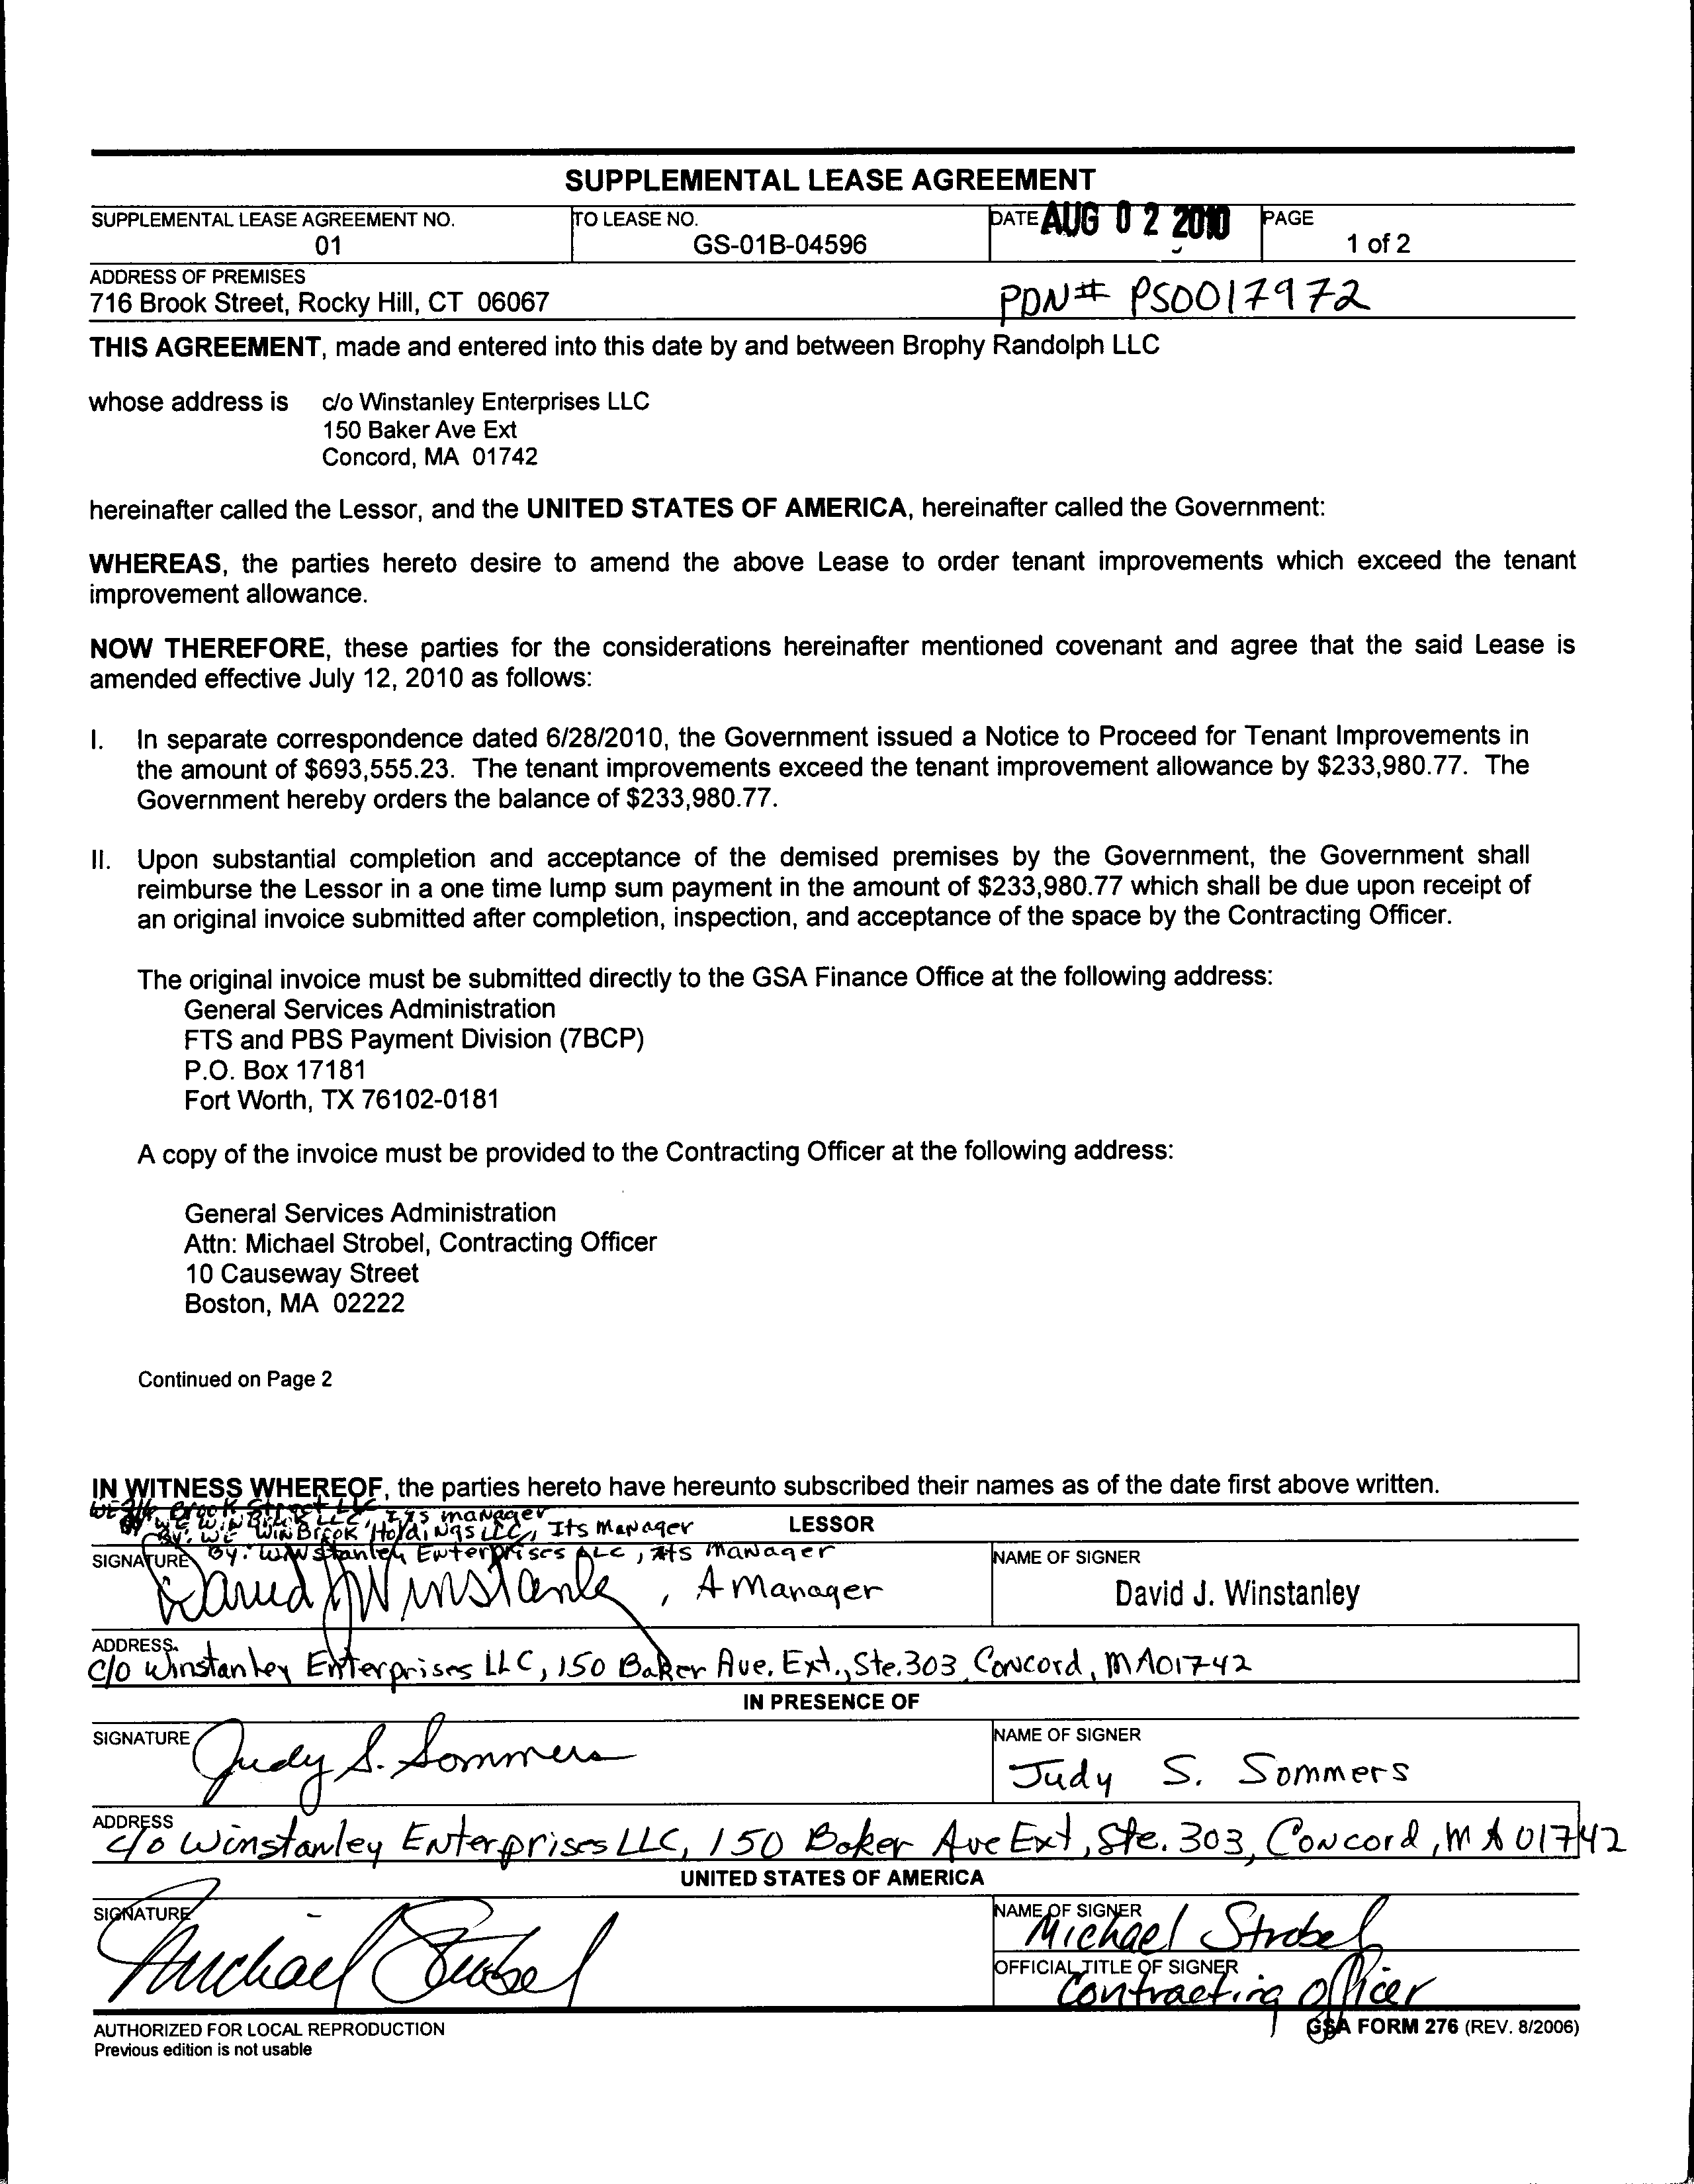handwritten: (96, 1819, 1632, 1870), (89, 1876, 617, 2008), (96, 1886, 615, 2007), (108, 1829, 1632, 1867), (136, 1576, 900, 1626), (85, 1650, 1262, 1682), (193, 1723, 640, 1805), (87, 1505, 705, 1549), (1001, 1748, 1423, 1801), (991, 273, 1372, 328), (1045, 1968, 1451, 2010), (202, 1546, 854, 1567), (1168, 1899, 1402, 1948), (1017, 1922, 1393, 1952), (312, 1537, 367, 1649)
